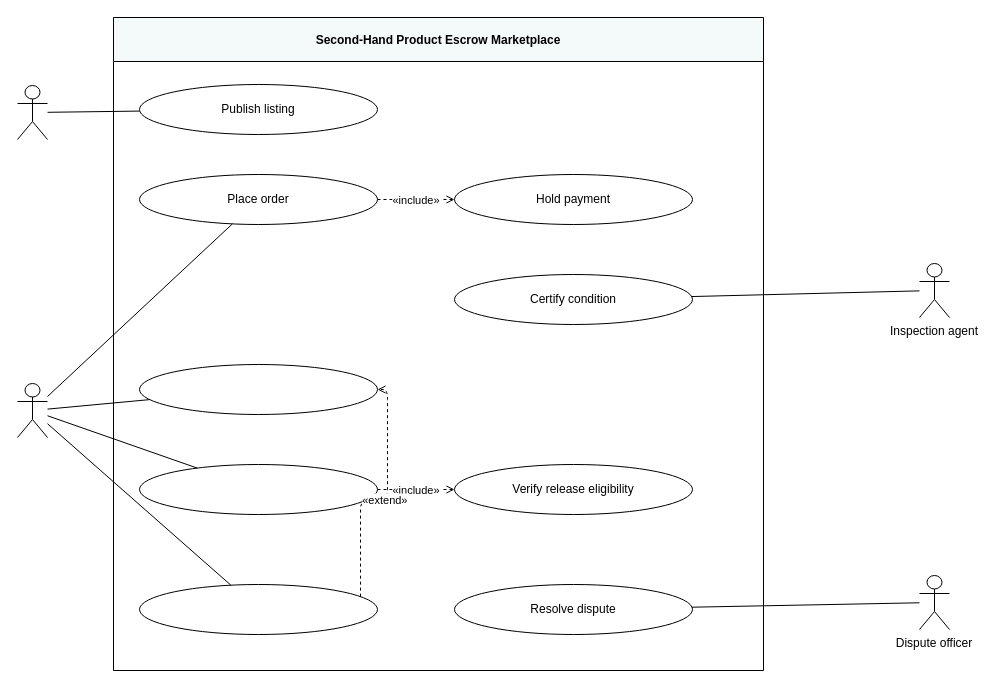
Image size: 997x688. Some labels were removed from this diagram. Here are the shapes that lost their labels. From the top down, the centre of each, then its label:
(32,112): Seller
(258,389): Review inspection report
(32,410): Buyer
(258,489): Approve escrow release
(258,609): Open dispute
